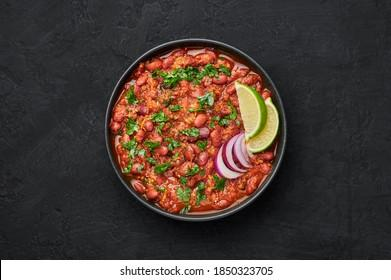rajma: (110, 50, 276, 211)
